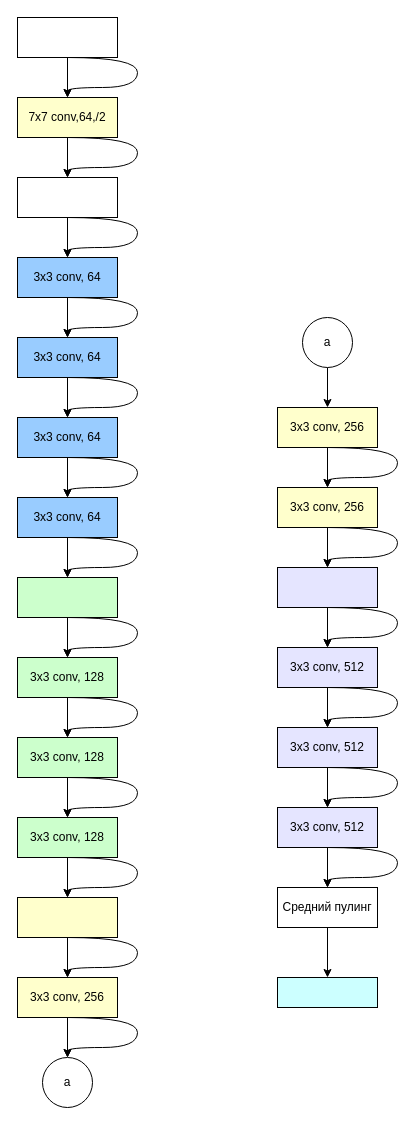
This 415x1125 diagram has some shape labels left out. The centre of each missing label's shape, as x and y in pixels:
"3x3 conv, 128,/2" goes at pixel 67 597.
"3x3 conv, 256,/2" goes at pixel 67 917.
"3x3 conv, 512,/2" goes at pixel 327 587.
"FC, 10" goes at pixel 327 992.
"max pool, /2" goes at pixel 67 197.
"Рисунок" goes at pixel 67 37.
